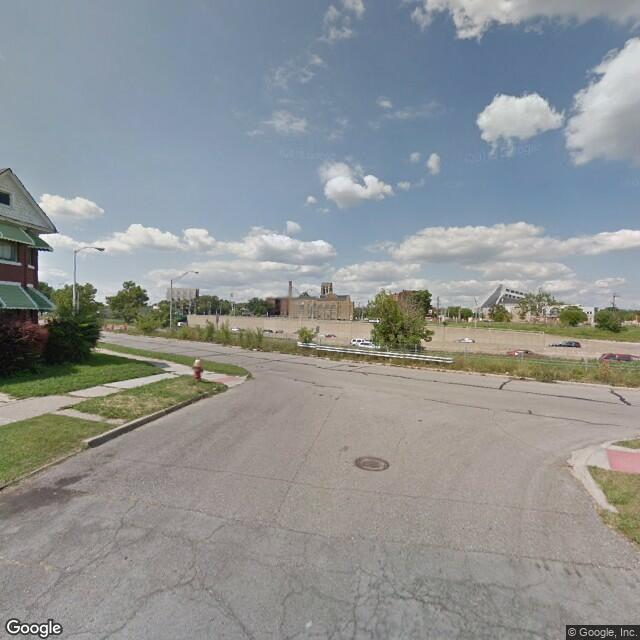litter: (251, 345, 259, 351)
